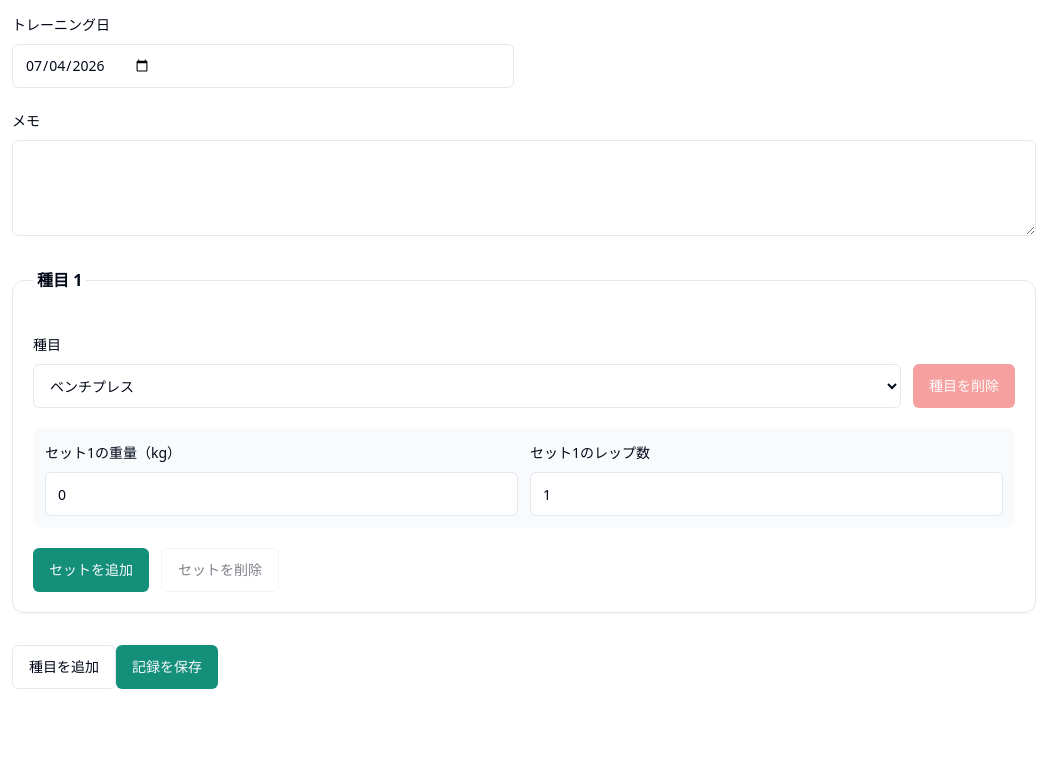
Test case: WorkoutForm › shows a safe action error
Replace the text in the number field labelled "セット1の重量（kg）" with "60": (282, 494) [45,472,518,516]
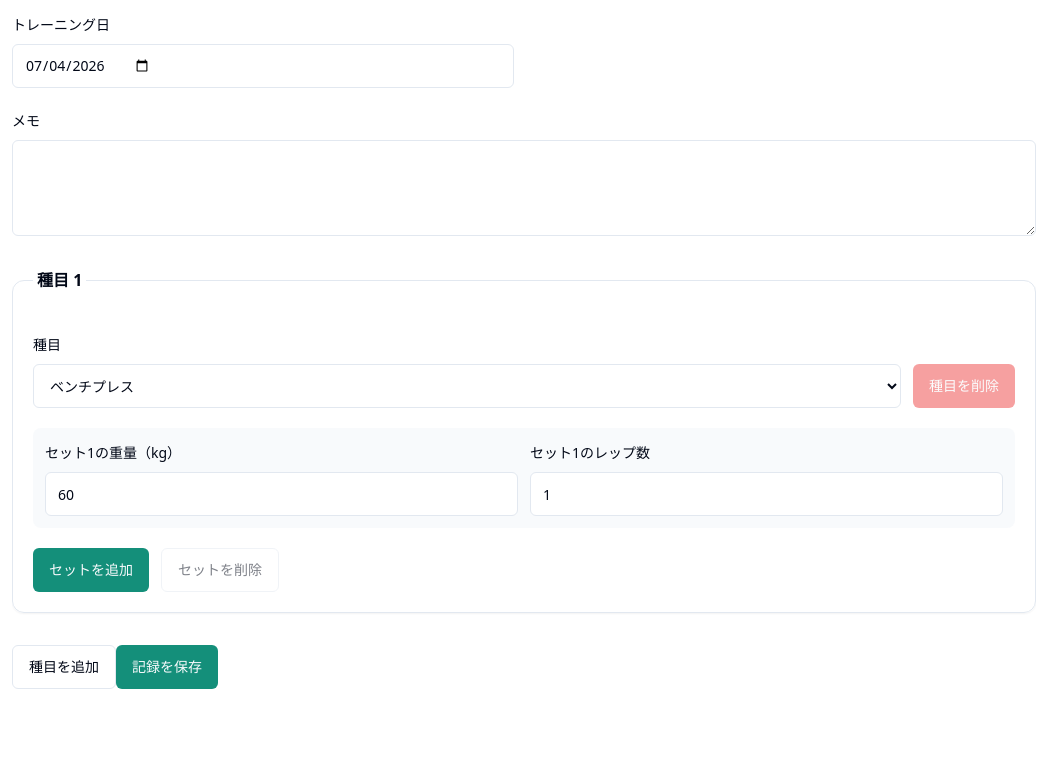
Replace the text in the number field labelled "セット1のレップ数" with "10": (766, 494) [530,472,1003,516]
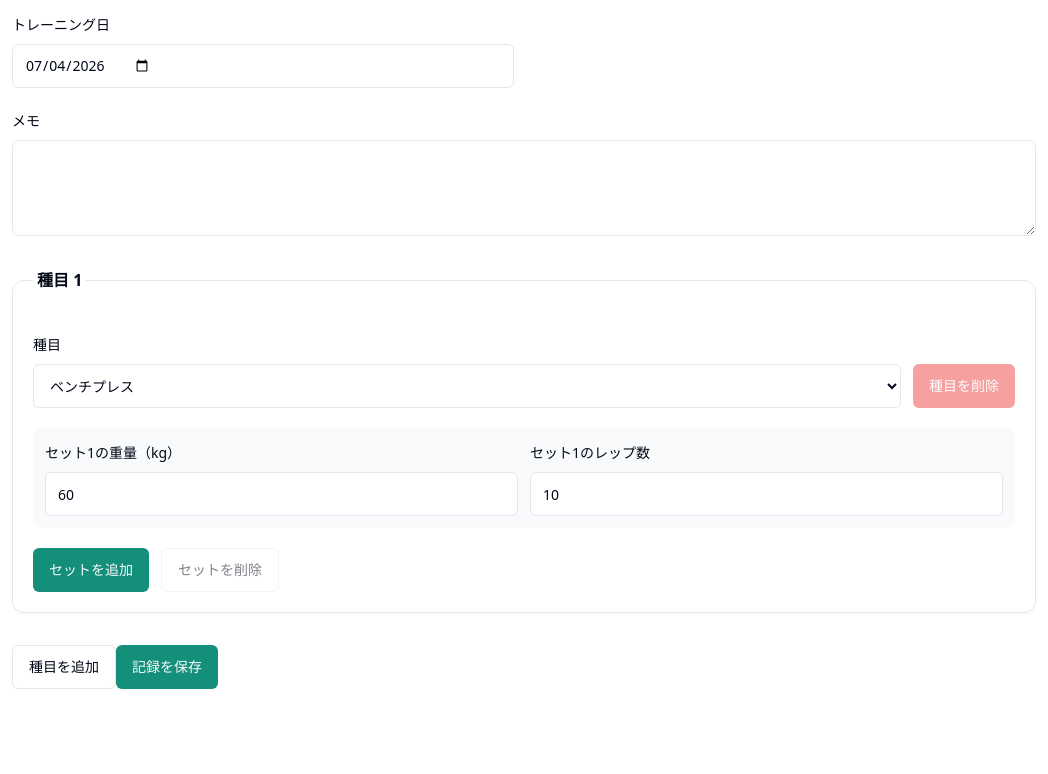
Click the button "記録を保存": (167, 667) [116,645,218,689]
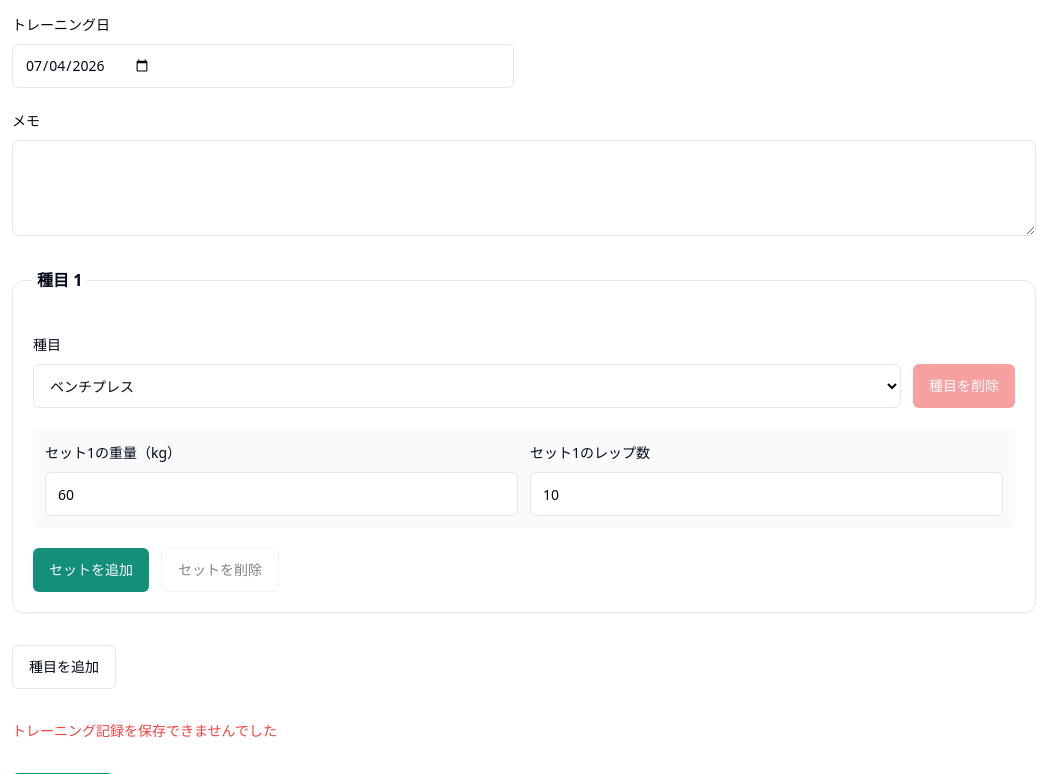
Expected: the message reads "トレーニング記録を保存できませんでした", [12,721,277,740]
